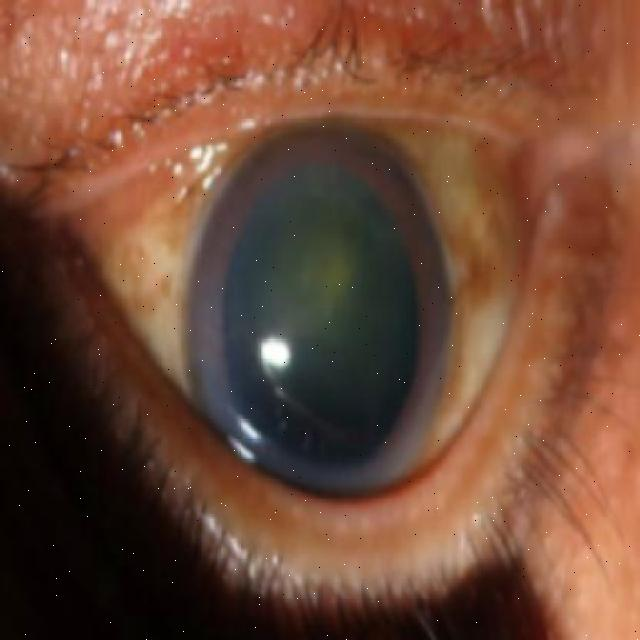Cataract: (177, 122, 451, 504)
